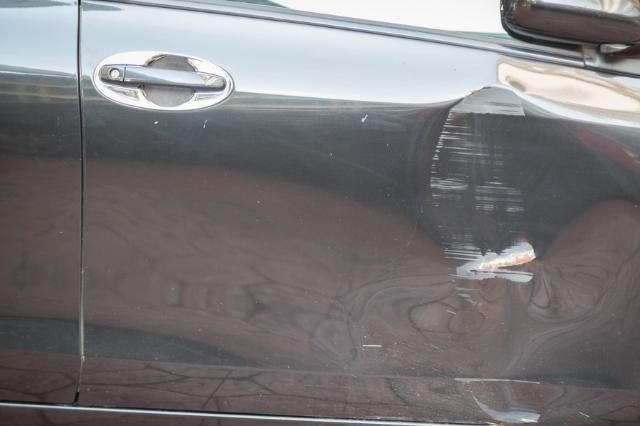Door: (359, 64, 603, 426)
